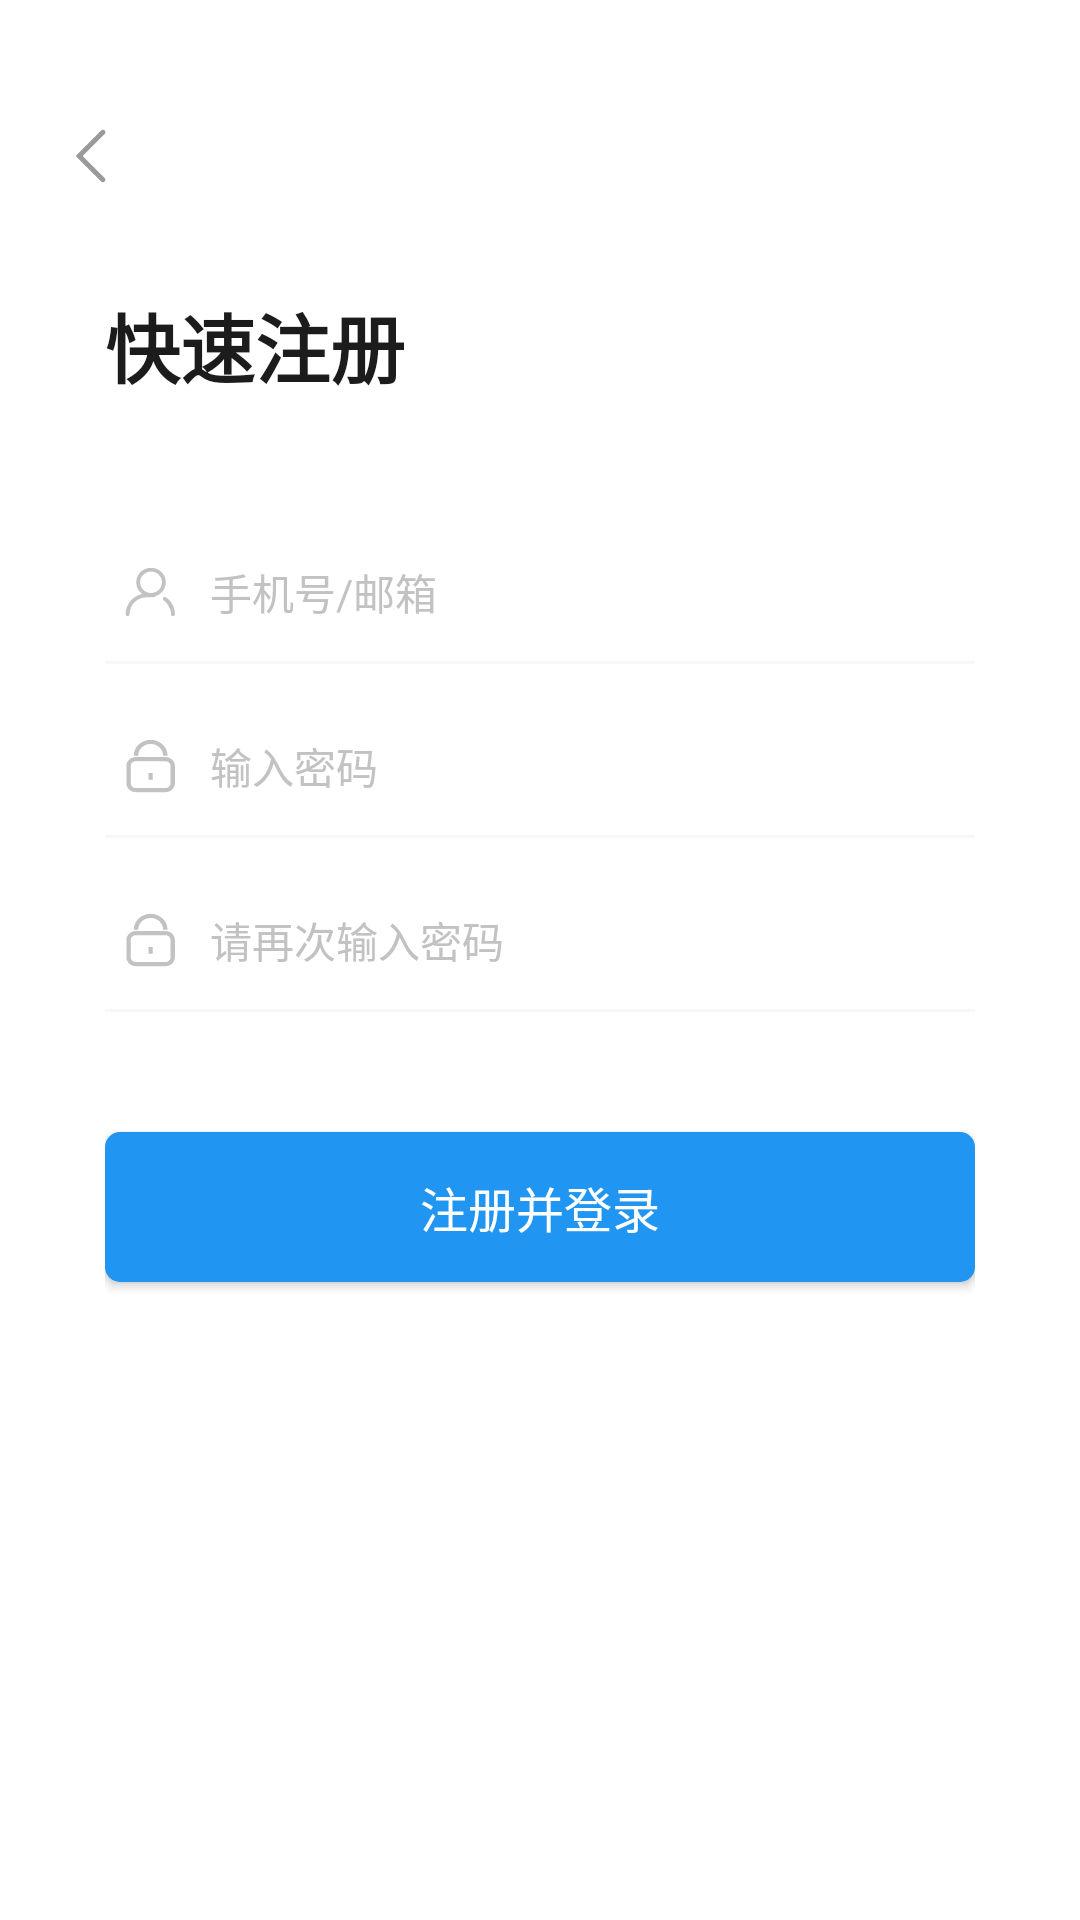

Locate icon controls on the screen. Image size 1080x1920, boxes as (left=x1, top=y1, right=x2, bottom=y2).
back: (left=76, top=130, right=106, bottom=182)
